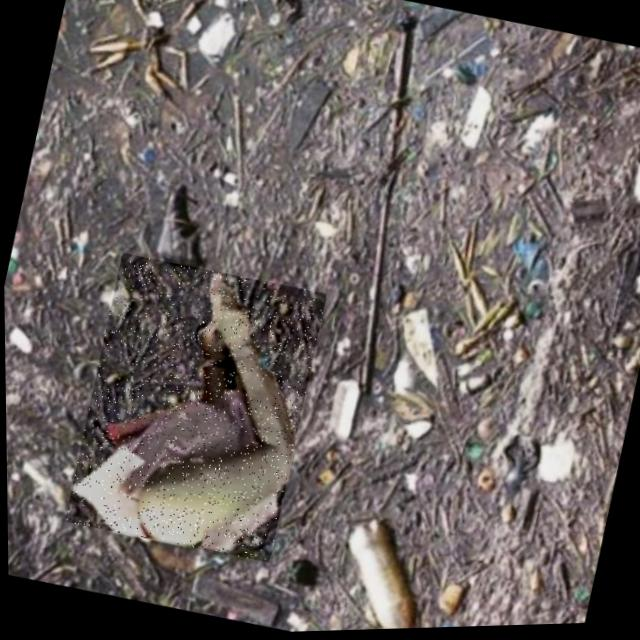Person in Rubble: (60, 248, 329, 568)
